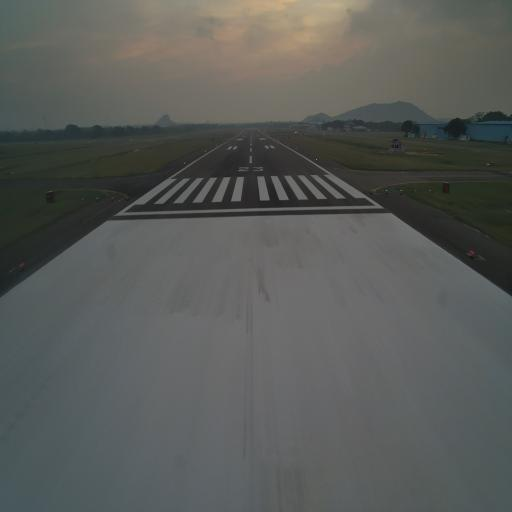on: (19, 258, 25, 272), (468, 248, 474, 260)
